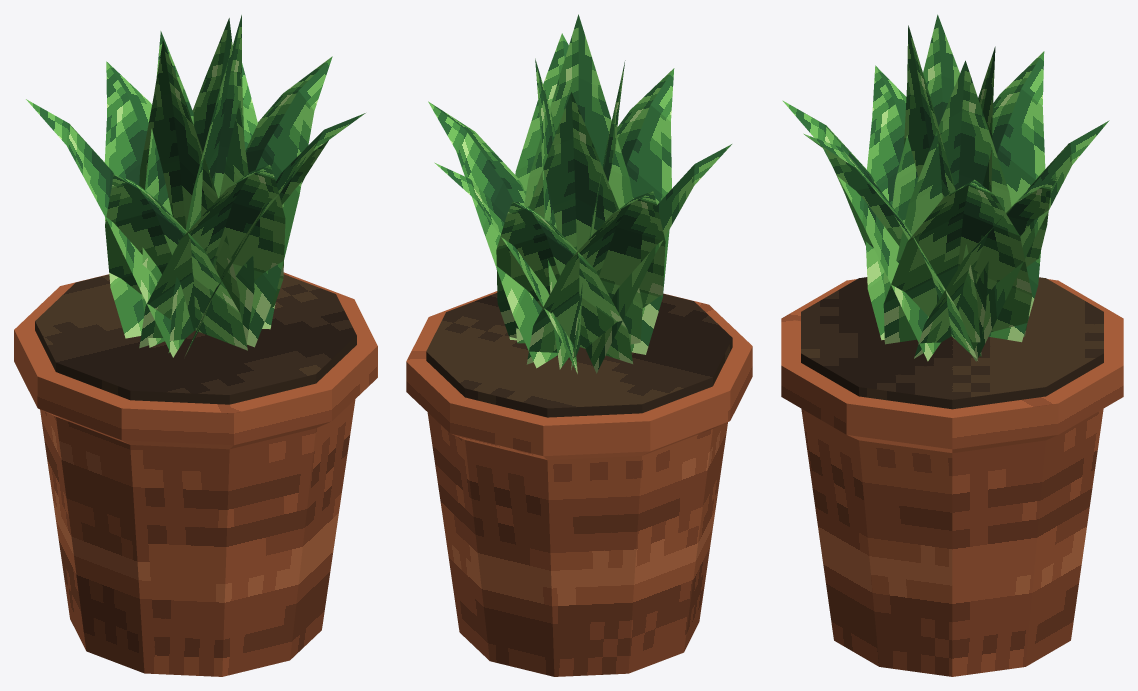
The model's file is plant.glb.
3 renders of one model, left to right at view 1: azimuth 30°, elevation 25°; view 2: azimuth 150°, elevation 25°; view 3: azimuth 270°, elevation 25°, orthographic. The views are drawn at different scales.
Parts seen in each view (by area): view 1: plant; view 2: plant; view 3: plant.
Boxes of the visible parts, x1=… form: plant: x1=14, y1=15, x2=377, y2=676; plant: x1=406, y1=14, x2=752, y2=676; plant: x1=781, y1=14, x2=1123, y2=676.
Size of the model in its own units: 0.6401 by 1.2 by 0.6088.
3 materials, 3 textured.
